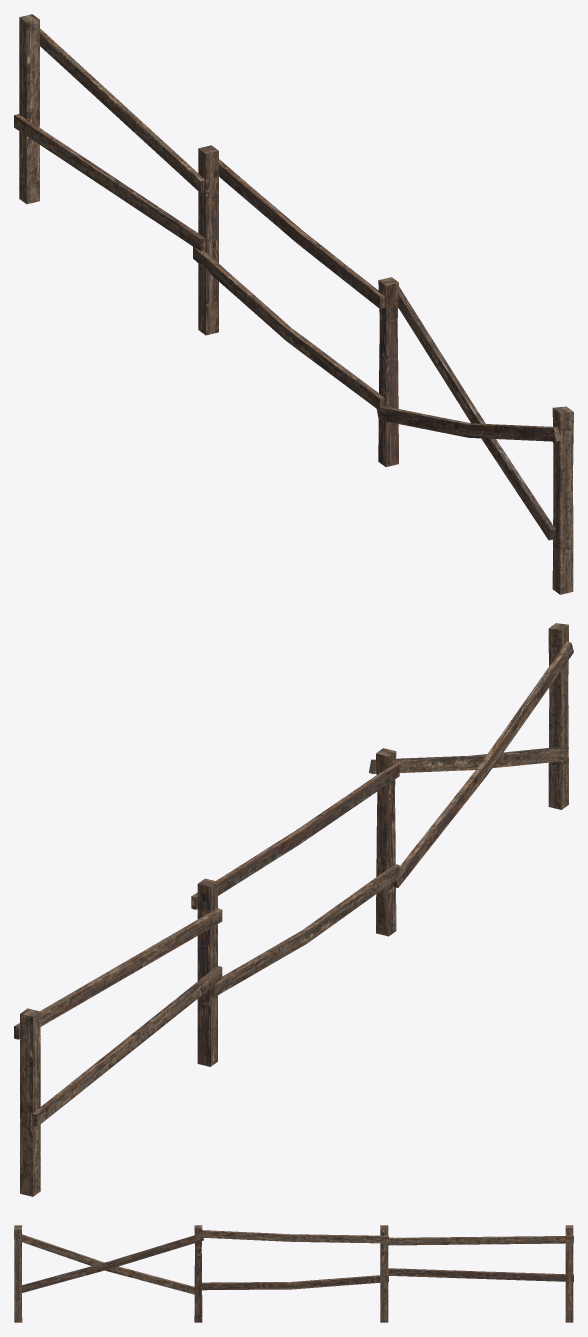
The model's file is Fence.fbx.
The picture shows the model from 3 angles, top to bottom: view 1: azimuth 30°, elevation 25°; view 2: azimuth 150°, elevation 25°; view 3: azimuth 270°, elevation 25°; orthographic projection. The views are drawn at different scales.
Parts seen in each view (by area): view 1: Cube.001, Cube.002, Cube.003, Cube.004; view 2: Cube.001, Cube.002, Cube.003, Cube.004; view 3: Cube.001, Cube.002, Cube.003, Cube.004.
Part boxes in pixels (x1,y1,x2,y2): Cube.001: (14,14,205,251); Cube.002: (193,145,384,408); Cube.003: (376,277,560,540); Cube.004: (552,406,573,594); Cube.001: (14,908,222,1196); Cube.002: (191,763,399,1066); Cube.003: (369,641,573,936); Cube.004: (548,623,568,809); Cube.001: (388,1225,573,1322); Cube.002: (202,1225,388,1322); Cube.003: (14,1225,203,1322); Cube.004: (14,1225,22,1322).
Size of the model in its own units: 14.03 by 104 by 565.
